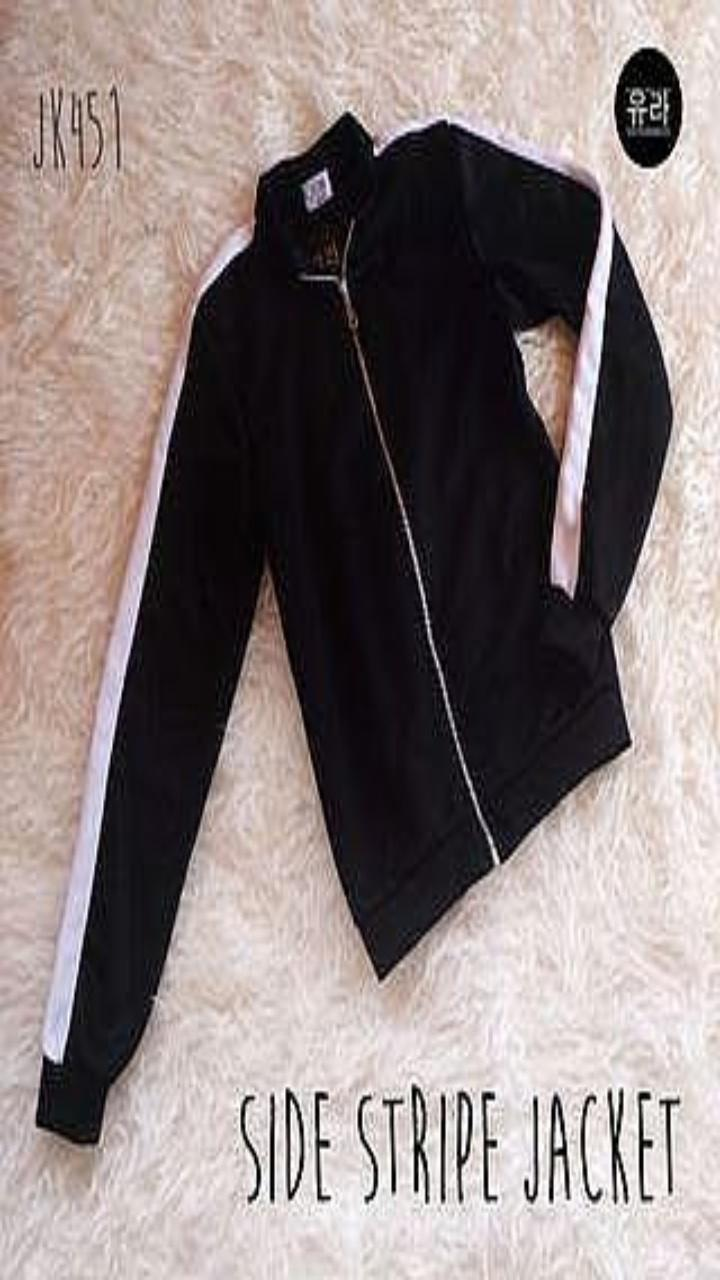Sports_Jacket: (36, 110, 671, 1142)
